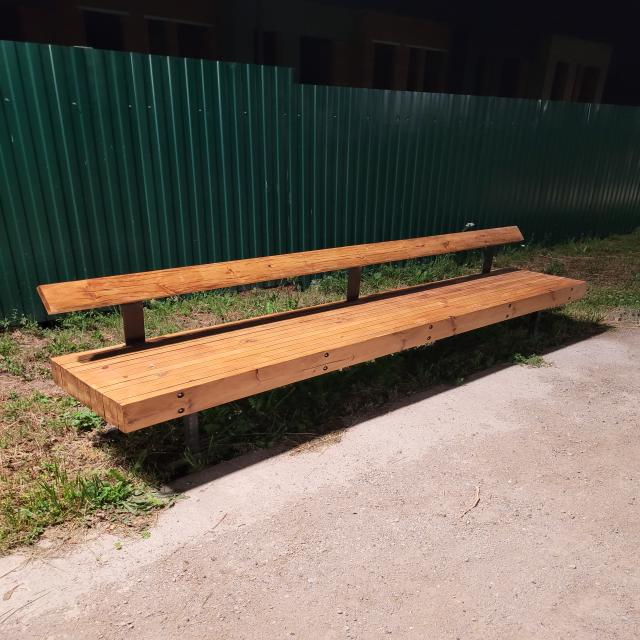Bench: (36, 226, 587, 453)
